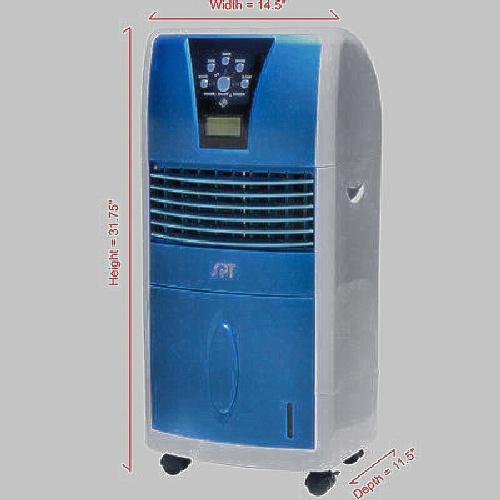fan: (109, 17, 419, 489)
